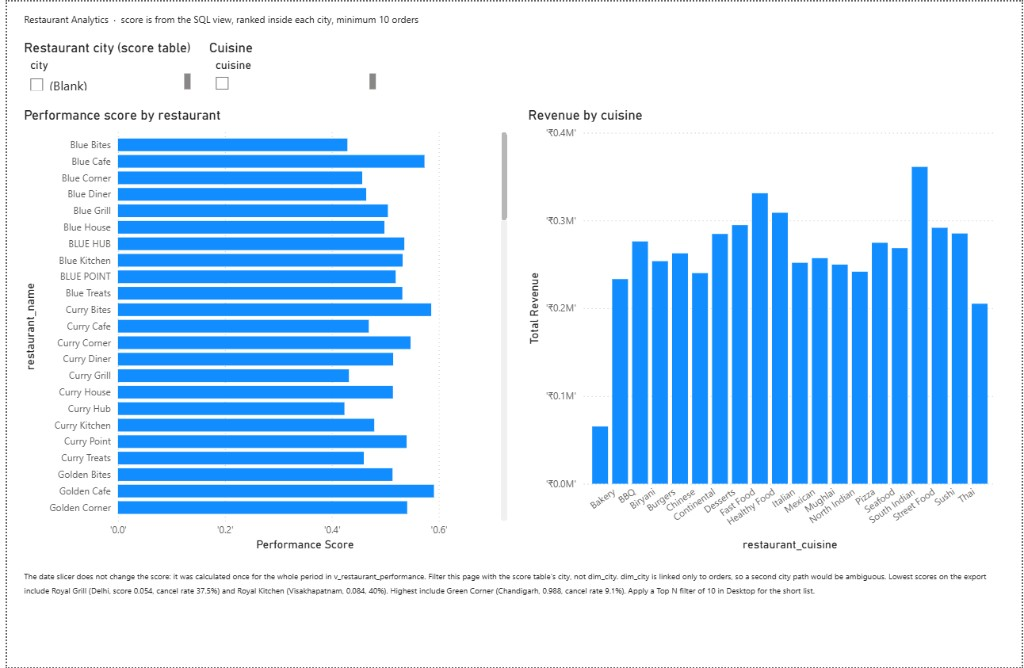

The page's visual inventory and layout, read from the dashboard file:
{"tool":"powerbi","page":{"name":"Restaurant Analytics","canvas":[1280,840],"ordinal":2},"visuals":[{"type":"textbox","box":[16,8,1100,32],"z":0},{"type":"slicer","title":"Restaurant city (score table)","fields":{"Values":["restaurant_performance.city"]},"box":[16,48,220,70],"z":2},{"type":"slicer","title":"Cuisine","fields":{"Values":["dim_restaurants.cuisine"]},"box":[250,48,220,70],"z":2},{"type":"clusteredBarChart","title":"Performance score by restaurant","fields":{"Category":["restaurant_performance.restaurant_name"],"Y":["_Measures.Performance Score"]},"box":[16,132,620,566],"z":3},{"type":"clusteredColumnChart","title":"Revenue by cuisine","fields":{"Category":["fact_orders.restaurant_cuisine"],"Y":["_Measures.Total Revenue"]},"box":[652,132,600,566],"z":3},{"type":"textbox","box":[16,710,1240,110],"z":4}]}

Visuals, with their boxes in screenshot pixels (x1, y1, x2, y2), scaled from the page's 1280x840 canvas onto the 1024x668 screenshot:
textbox: crop(13, 6, 893, 32)
"Restaurant city (score table)" slicer: crop(13, 38, 189, 94)
"Cuisine" slicer: crop(200, 38, 376, 94)
"Performance score by restaurant" clusteredBarChart: crop(13, 105, 509, 555)
"Revenue by cuisine" clusteredColumnChart: crop(522, 105, 1002, 555)
textbox: crop(13, 565, 1005, 652)
